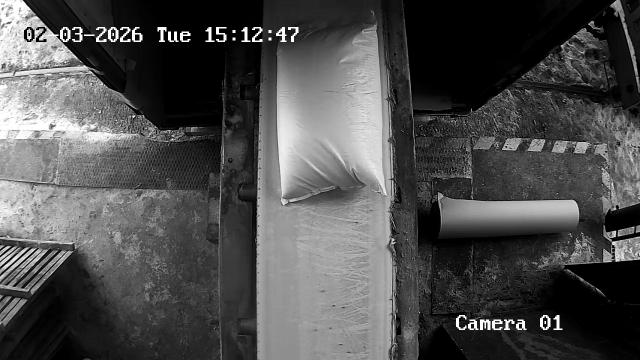bag: (278, 12, 386, 204)
